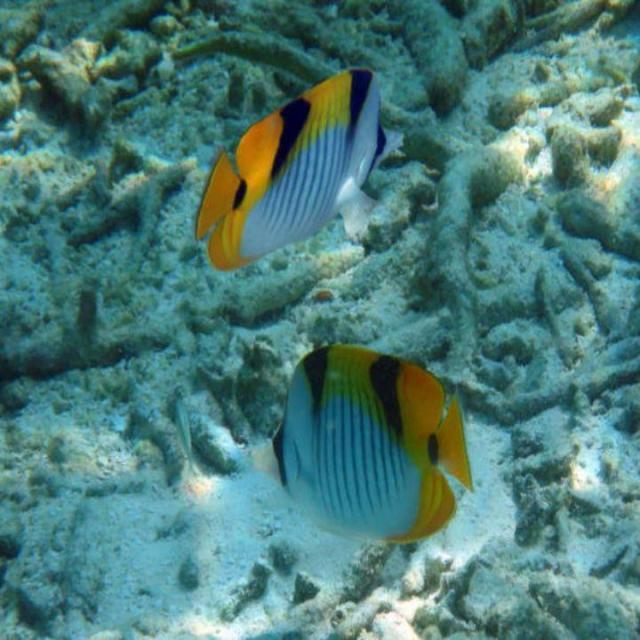Dead Coral: (411, 0, 640, 381), (0, 314, 241, 473), (0, 0, 336, 99)
